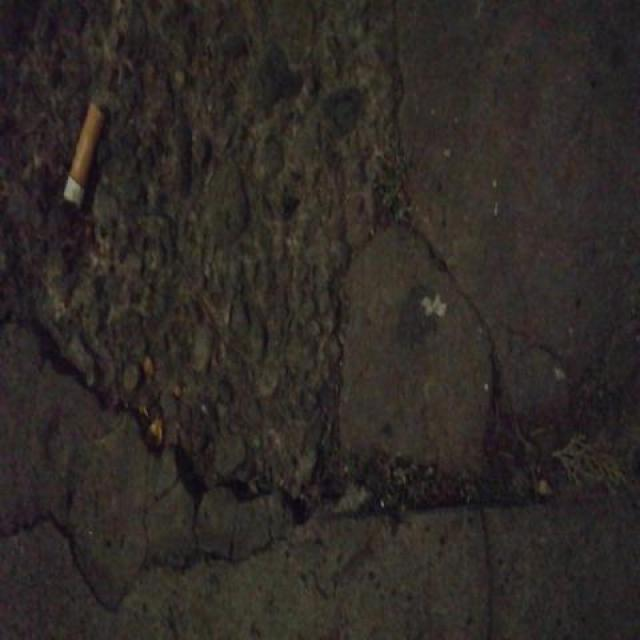non-organic waste: (60, 98, 111, 214)
